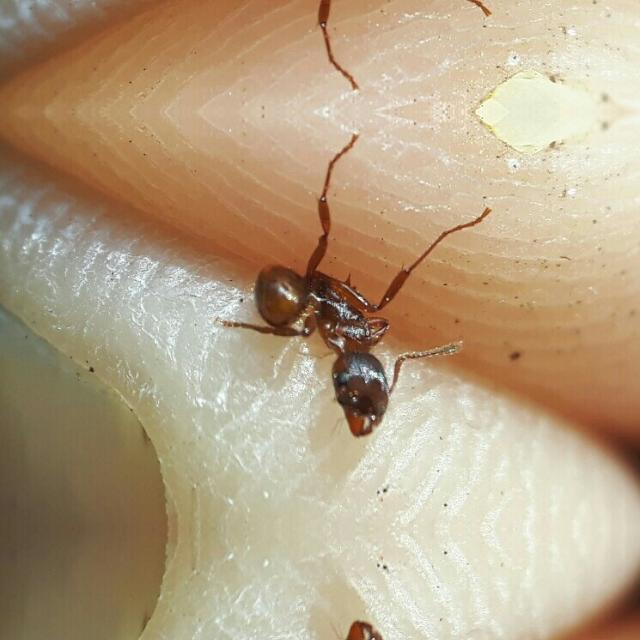Myrmica: (227, 226, 457, 466), (227, 590, 457, 640)
